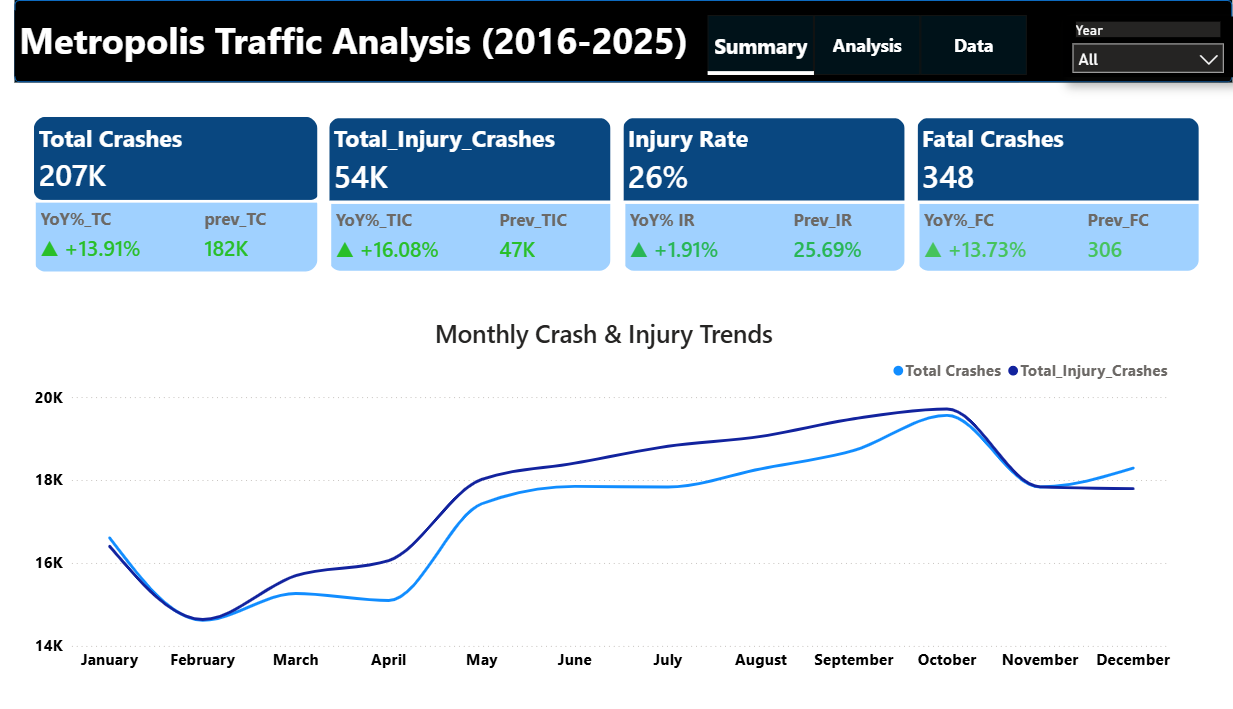

Layout of this report page (visuals, bound fields, positions):
{"tool":"powerbi","page":{"name":"Summary","canvas":[1280,720],"ordinal":0},"visuals":[{"type":"shape","box":[20.8,0,1258.6,85],"z":0},{"type":"cardVisual","fields":{"Data":["_measure.Total Crashes","_measure.Total_Injury_Crashes","_measure.Injury Rate","_measure.Fatal Crashes"]},"box":[20.8,85,1226.5,213.5],"z":1000},{"type":"lineChart","title":"Monthly Crash & Injury Trends","fields":{"Y":["_measure.Total Crashes"],"Y2":["_measure.Total_Injury_Crashes"],"Category":["crash_date.Month Name"]},"box":[35.9,326.9,1186.8,376.1],"z":2000},{"type":"slicer","fields":{"Values":["crash_date.Year"]},"box":[1077.2,17,202.2,62.4],"z":3000},{"type":"pageNavigator","box":[755.9,11.3,321.3,62.4],"z":5000},{"type":"textbox","box":[35.9,11.3,720,68],"z":6000}]}

Visuals, with their boxes in screenshot pixels (x1, y1, x2, y2), scaled from the page's 1280x720 canvas onto the 1233x709 screenshot:
shape: locate(20, 0, 1232, 84)
cardVisual - _measure.Total Crashes x _measure.Total_Injury_Crashes: locate(20, 84, 1202, 294)
"Monthly Crash & Injury Trends" lineChart: locate(35, 322, 1178, 692)
slicer - crash_date.Year: locate(1038, 17, 1232, 78)
pageNavigator: locate(728, 11, 1038, 73)
textbox: locate(35, 11, 728, 78)
